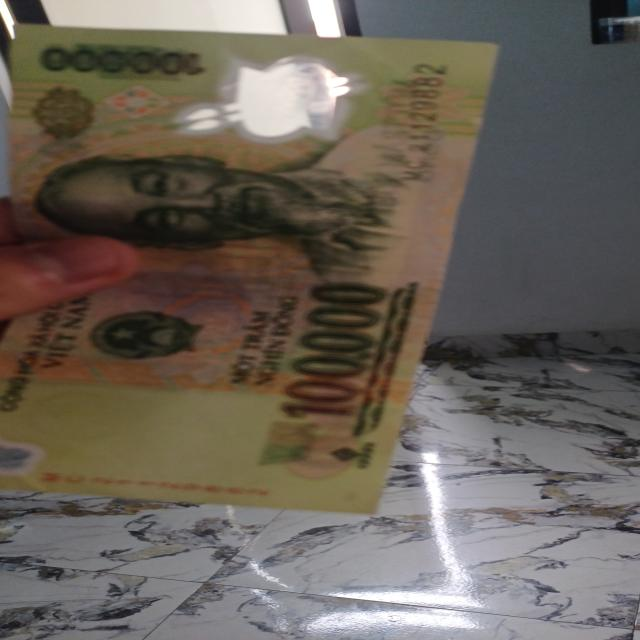100 000 VND: (0, 19, 522, 520)
